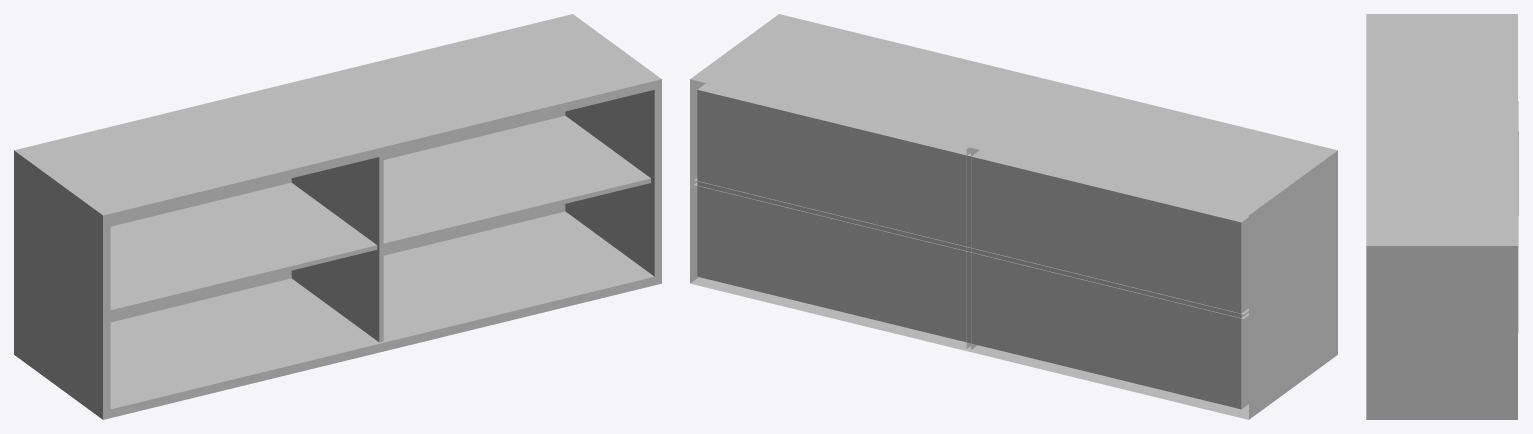
File: MuebleCocina.fbx
3 views of the same model, side by side, from view 1: azimuth 30°, elevation 25°; view 2: azimuth 150°, elevation 25°; view 3: azimuth 270°, elevation 25° (orthographic). The views are drawn at different scales.
Parts seen in each view (by area): view 1: MuebleCocina; view 2: MuebleCocina; view 3: MuebleCocina.
Part boxes in pixels (box(x1,y1,x2,y2)): MuebleCocina: box(14, 14, 661, 419); MuebleCocina: box(690, 14, 1337, 419); MuebleCocina: box(1366, 14, 1518, 419).
Size of the model in its own units: 351 by 123 by 97.42.
